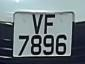6: (55, 33, 68, 57)
7: (16, 34, 31, 57)
8: (29, 35, 44, 56)
9: (41, 35, 55, 56)
F: (43, 12, 56, 36)
V: (30, 12, 45, 36)
